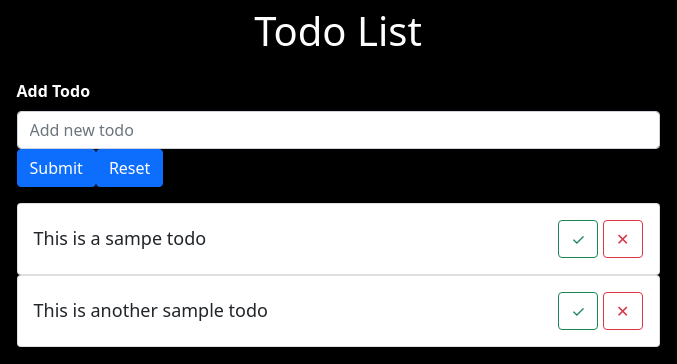
Test case: Test todo app › Delete todo item
The image size is (677, 364).
Click the button with class "btn-outline-danger" in the row of "This is another sample todo".
click(623, 311)  # box [603,292,642,330]
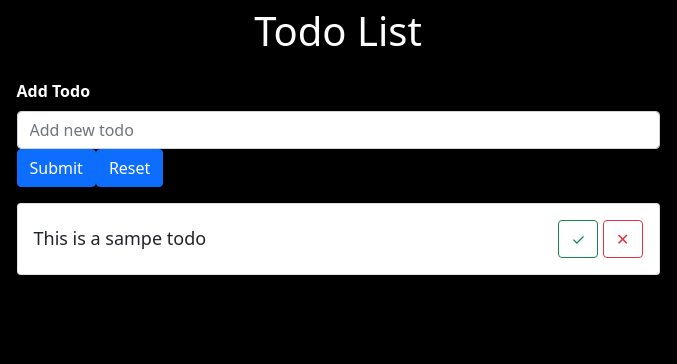
Expected: the number of elements with class "todo" is 1, [34,220,643,258]
